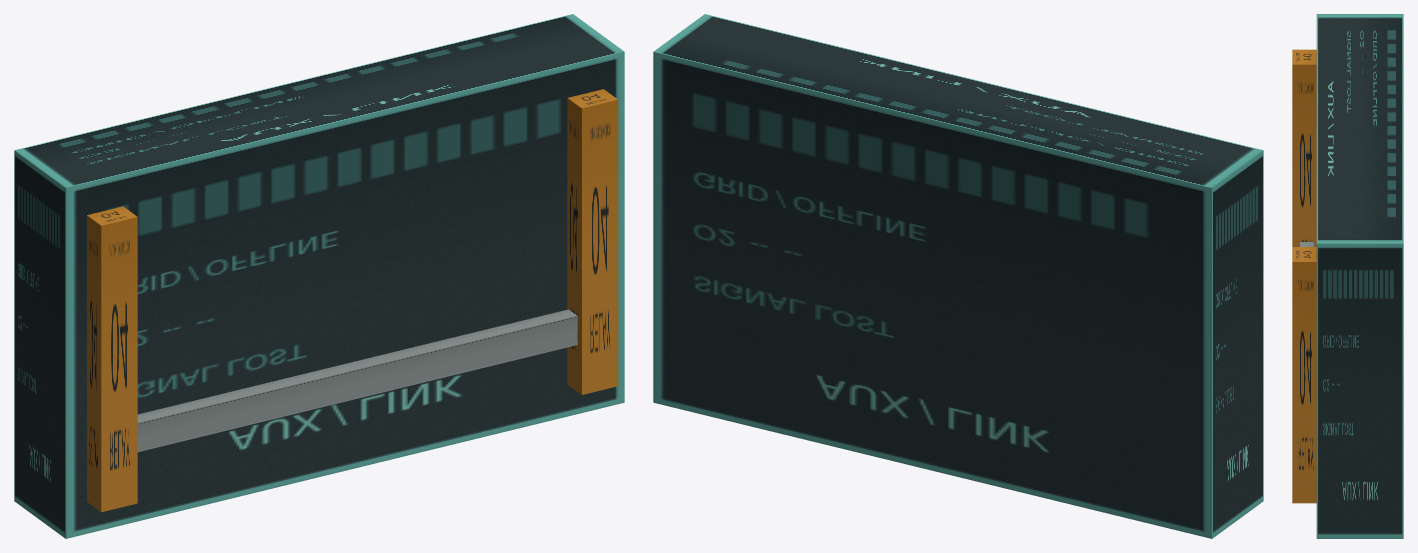
File: wall_half_2m_LOD2.obj
The picture shows the model from 3 angles, left to right: view 1: azimuth 30°, elevation 25°; view 2: azimuth 150°, elevation 25°; view 3: azimuth 270°, elevation 25°; orthographic projection. The views are drawn at different scales.
Parts seen in each view (by area): view 1: L02_wall_half_2m_LOD2; view 2: L02_wall_half_2m_LOD2; view 3: L02_wall_half_2m_LOD2.
Boxes of the visible parts, box(x1,y1,x2,y2) form: L02_wall_half_2m_LOD2: box(14, 14, 624, 538); L02_wall_half_2m_LOD2: box(653, 14, 1263, 538); L02_wall_half_2m_LOD2: box(1292, 14, 1403, 538).
Size of the model in its own units: 2 by 1.2 by 0.41.
1 material, 1 textured.
